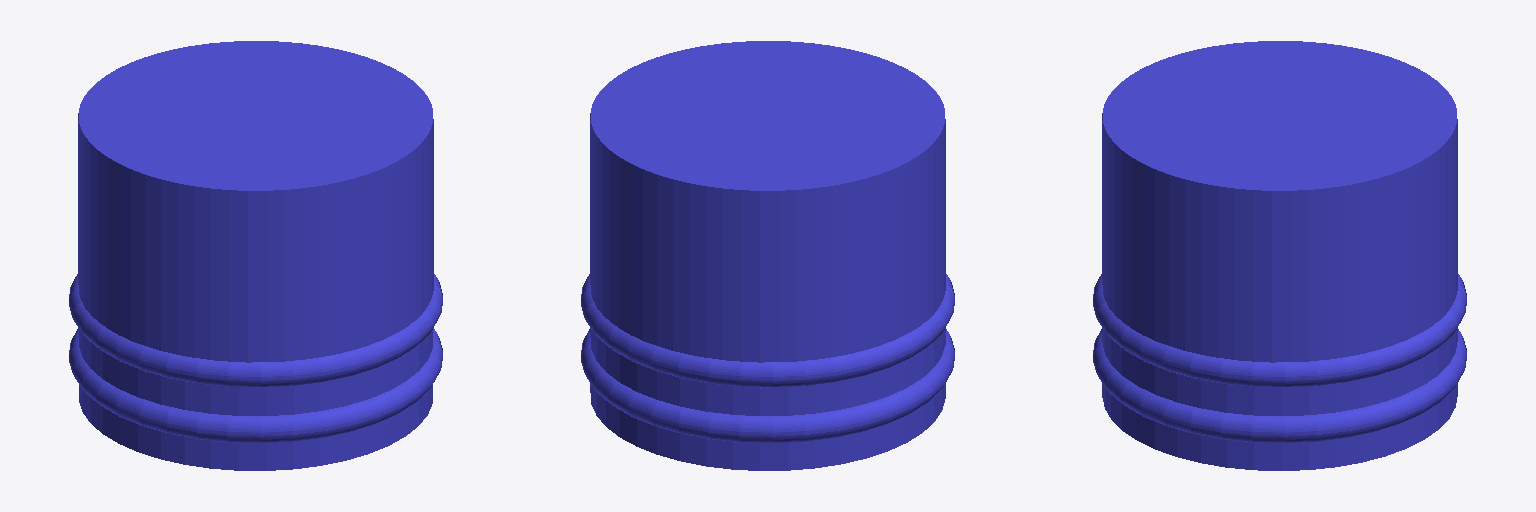
Rendered from bombilla32.obj.
The picture shows the model from 3 angles: view 1: azimuth 30°, elevation 25°; view 2: azimuth 150°, elevation 25°; view 3: azimuth 270°, elevation 25°; orthographic projection.
Parts seen in each view (by area): view 1: Cylinder001, Cylinder004, Cylinder003, Cylinder002, Cylinder006; view 2: Cylinder001, Cylinder004, Cylinder003, Cylinder002, Cylinder006; view 3: Cylinder001, Cylinder004, Cylinder003, Cylinder002, Cylinder006.
Boxes of the visible parts, box(x1,y1,x2,y2) form: Cylinder001: box(78, 41, 433, 362); Cylinder004: box(69, 328, 442, 442); Cylinder003: box(79, 329, 432, 415); Cylinder002: box(69, 274, 442, 387); Cylinder006: box(79, 385, 432, 470); Cylinder001: box(590, 41, 945, 362); Cylinder004: box(581, 329, 954, 442); Cylinder003: box(590, 328, 945, 415); Cylinder002: box(581, 274, 954, 387); Cylinder006: box(590, 383, 945, 470); Cylinder001: box(1102, 41, 1457, 362); Cylinder004: box(1093, 329, 1466, 442); Cylinder003: box(1102, 328, 1457, 415); Cylinder002: box(1093, 274, 1466, 387); Cylinder006: box(1102, 383, 1457, 470).
Bounding box in the file's own units: 72.22 × 59.56 × 72.21.